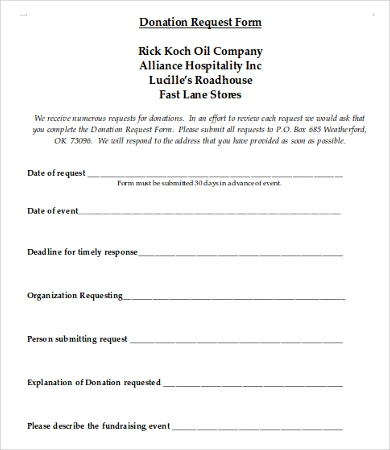textline: (122, 283, 348, 303), (129, 325, 344, 346), (137, 238, 347, 259), (78, 201, 345, 217), (86, 163, 347, 179), (161, 368, 344, 390), (170, 411, 345, 434)
